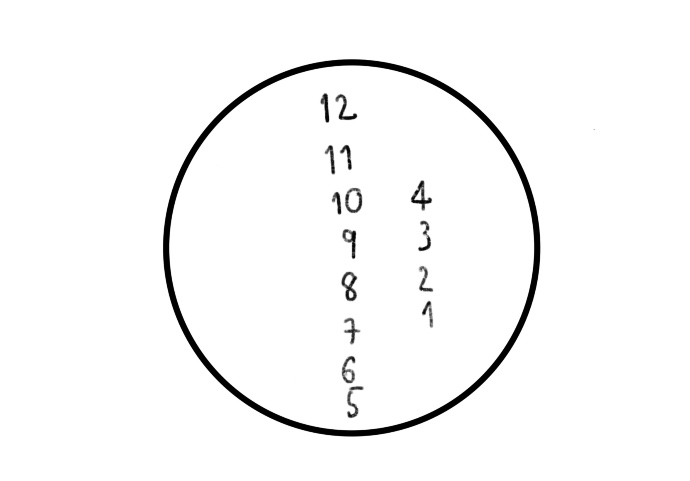eight: (339, 270, 359, 303)
eleven: (322, 145, 355, 175)
five: (341, 383, 364, 420)
four: (407, 177, 437, 212)
nine: (339, 226, 362, 260)
one: (419, 300, 436, 329)
seven: (340, 314, 362, 348)
six: (340, 352, 359, 386)
ten: (327, 184, 366, 219)
three: (418, 217, 432, 254)
twelve: (319, 87, 357, 124)
two: (416, 261, 437, 294)
